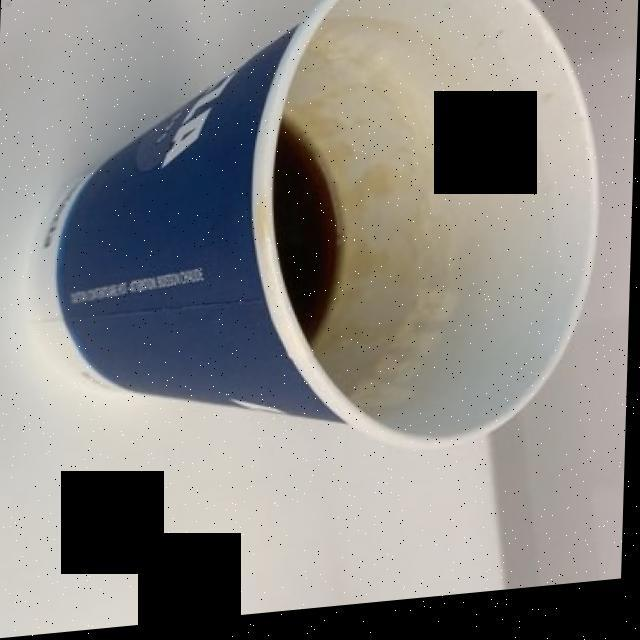coffee: (278, 130, 338, 346)
